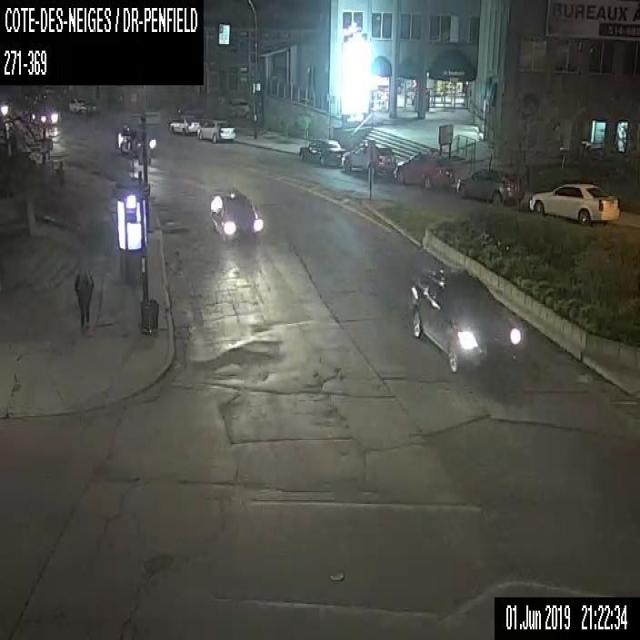pedestrian: (72, 264, 92, 328), (56, 161, 64, 187)
vehicle: (406, 268, 523, 372), (528, 181, 618, 223), (208, 190, 263, 242), (395, 146, 457, 189), (454, 167, 524, 205), (342, 141, 395, 171), (298, 137, 344, 165), (116, 124, 154, 155), (196, 118, 235, 142), (168, 114, 200, 136), (230, 97, 251, 119), (68, 96, 86, 113)
